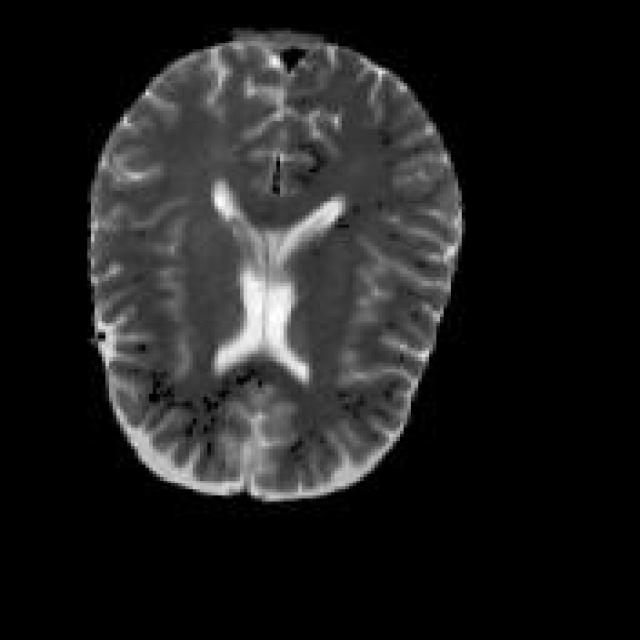parkinson: (83, 24, 466, 502)
